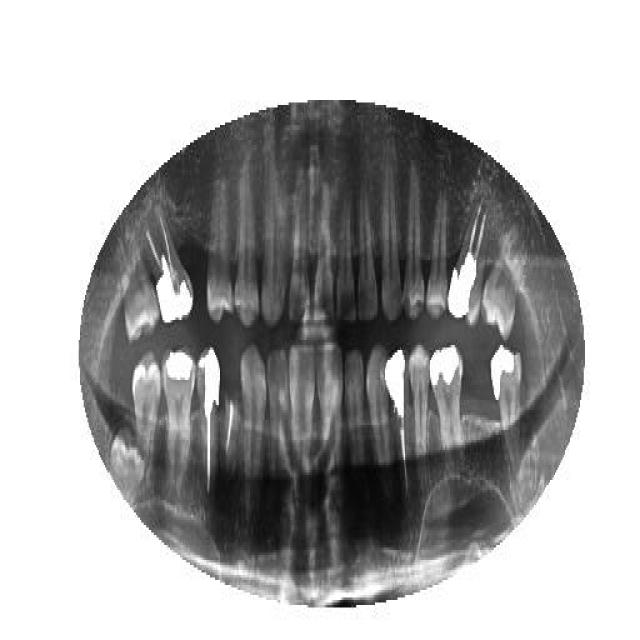Cavity: (221, 380, 241, 470)
Fillings: (164, 350, 195, 502), (430, 340, 465, 472), (490, 342, 522, 472)
Impacted Tooth: (108, 412, 148, 510)
Implant: (446, 192, 489, 328), (145, 215, 193, 323), (384, 340, 414, 498), (198, 342, 222, 498)
